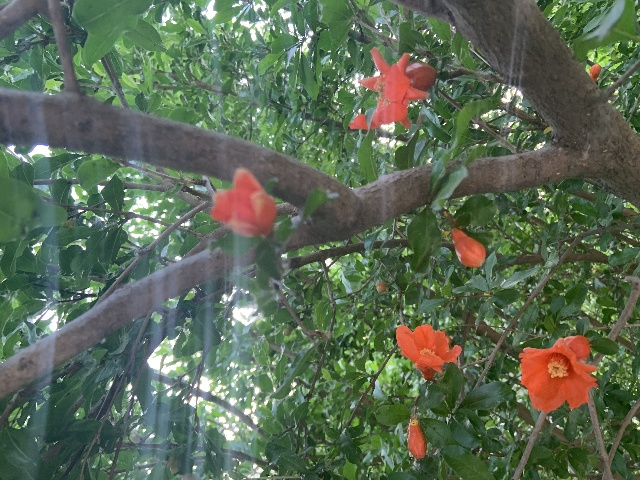bud: (452, 227, 486, 267), (407, 418, 426, 459), (589, 63, 600, 81), (376, 282, 386, 292)
flower: (351, 47, 436, 131), (519, 334, 599, 412), (210, 168, 277, 237), (395, 323, 462, 380)
